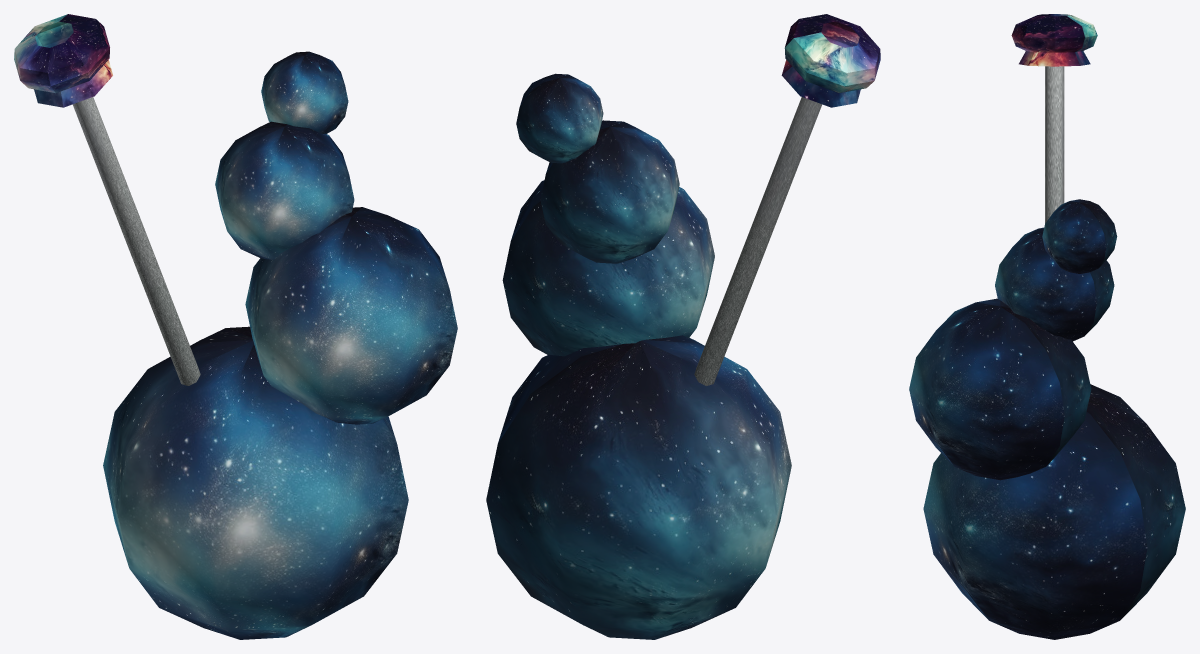
File: building200.obj
3 views of the same model, side by side, from view 1: azimuth 30°, elevation 25°; view 2: azimuth 150°, elevation 25°; view 3: azimuth 270°, elevation 25° (orthographic). The views are drawn at different scales.
Visible parts, largest first — view 1: pSphere1, pSphere2, pSphere3, group1 pTorus1, pCylinder1 group1, pSphere4; view 2: pSphere1, pSphere2, pSphere3, group1 pTorus1, pCylinder1 group1, pSphere4; view 3: pSphere1, pSphere2, pSphere3, pSphere4, group1 pTorus1, pCylinder1 group1.
Part boxes in pixels (x1,y1,x2,y2): pSphere1: (103, 326, 408, 639); pSphere2: (245, 207, 457, 424); pSphere3: (215, 121, 354, 259); group1 pTorus1: (14, 14, 112, 107); pCylinder1 group1: (72, 97, 200, 385); pSphere4: (261, 51, 348, 133); pSphere1: (486, 335, 791, 639); pSphere2: (502, 180, 714, 356); pSphere3: (540, 120, 679, 263); group1 pTorus1: (781, 14, 880, 107); pCylinder1 group1: (694, 97, 822, 385); pSphere4: (516, 73, 603, 163); pSphere1: (923, 384, 1185, 639); pSphere2: (909, 298, 1091, 480); pSphere3: (995, 227, 1114, 341); pSphere4: (1042, 199, 1117, 273); group1 pTorus1: (1011, 14, 1097, 66); pCylinder1 group1: (1045, 66, 1064, 223).
Size of the model in its own units: 6.3 by 9.9 by 4.63.
